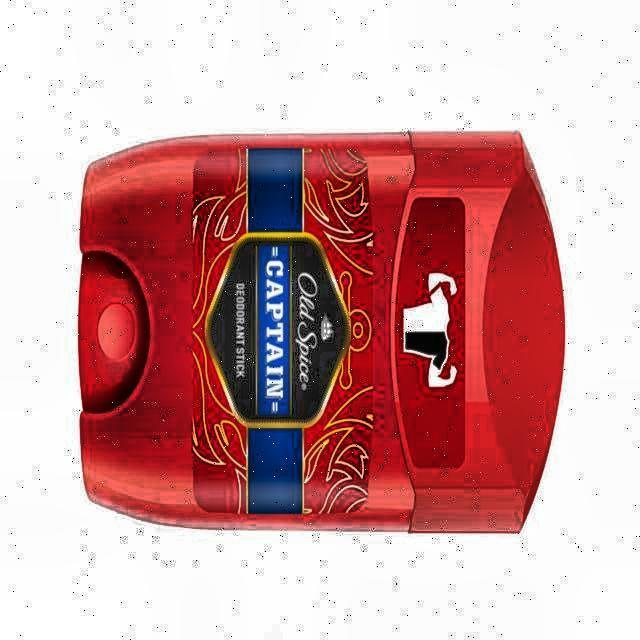plastic: (79, 134, 564, 532)
